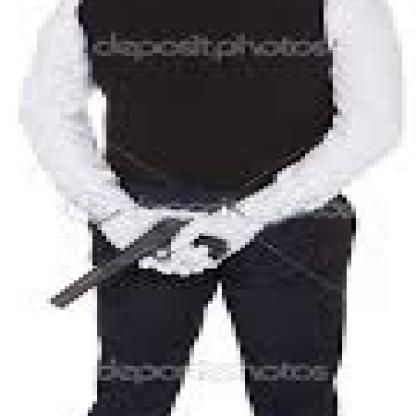gun: (42, 218, 240, 310)
